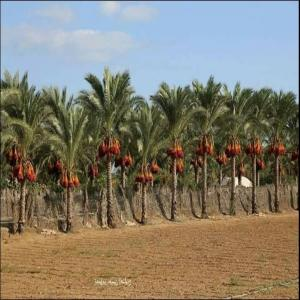palm tree: (75, 65, 142, 228), (0, 69, 52, 233), (42, 89, 94, 232), (150, 81, 196, 221), (187, 76, 227, 218), (125, 100, 170, 225), (217, 80, 252, 215), (265, 89, 298, 212), (242, 86, 272, 214)
